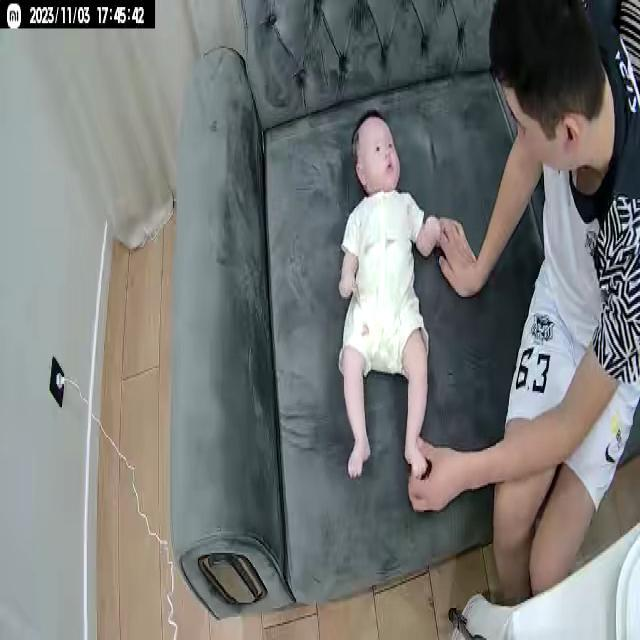baby: (336, 106, 442, 483)
